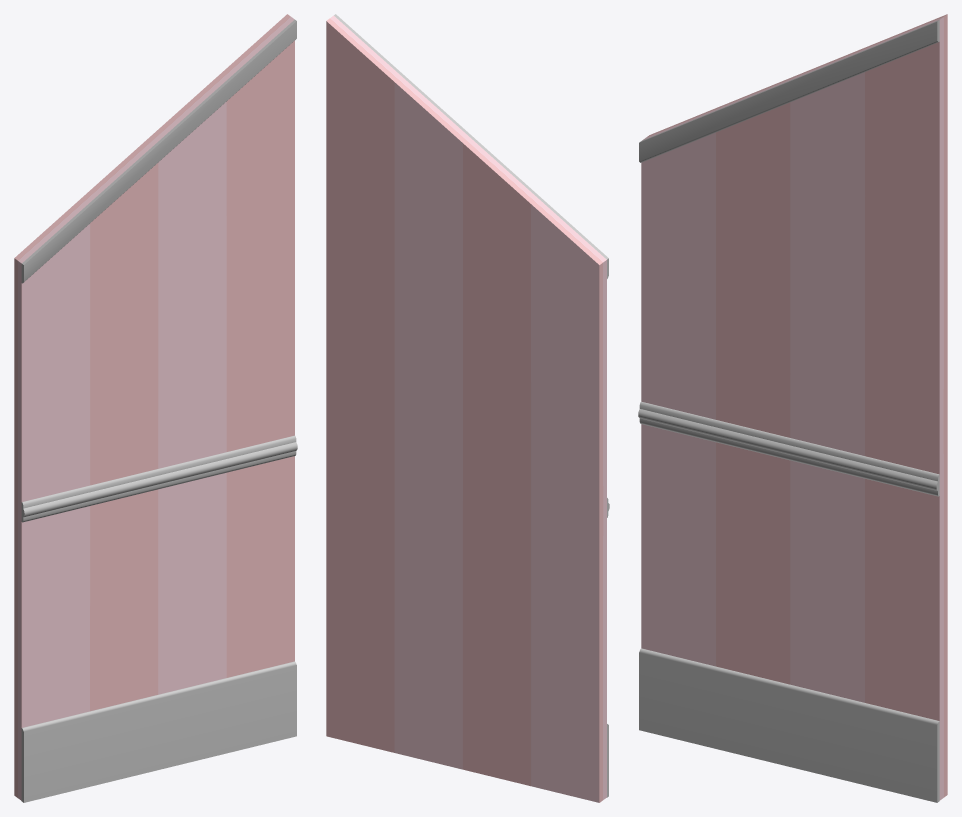
The model's file is Wall_Interior_Angled_5.fbx.
3 views of the same model, side by side, from view 1: azimuth 30°, elevation 25°; view 2: azimuth 150°, elevation 25°; view 3: azimuth 330°, elevation 25° (orthographic). The views are drawn at different scales.
Parts seen in each view (by area): view 1: Wall_Interior_Angled; view 2: Wall_Interior_Angled; view 3: Wall_Interior_Angled.
Boxes of the visible parts, box(x1,y1,x2,y2) form: Wall_Interior_Angled: box(14, 14, 297, 802); Wall_Interior_Angled: box(326, 14, 609, 802); Wall_Interior_Angled: box(638, 14, 947, 802).
Bounding box in the file's own units: 1 × 2.5 × 0.0649.
